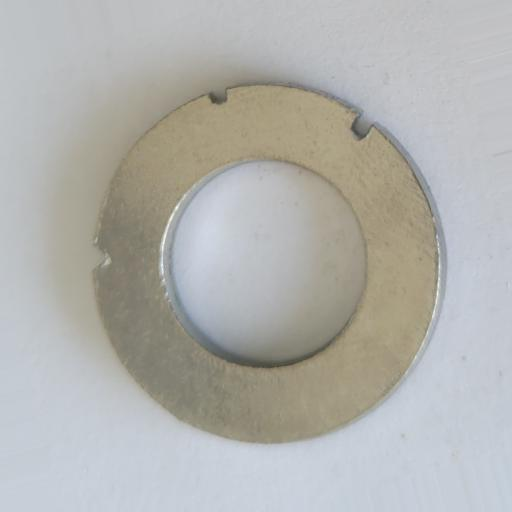burr: (88, 244, 110, 273), (350, 114, 374, 140), (208, 86, 230, 106)
